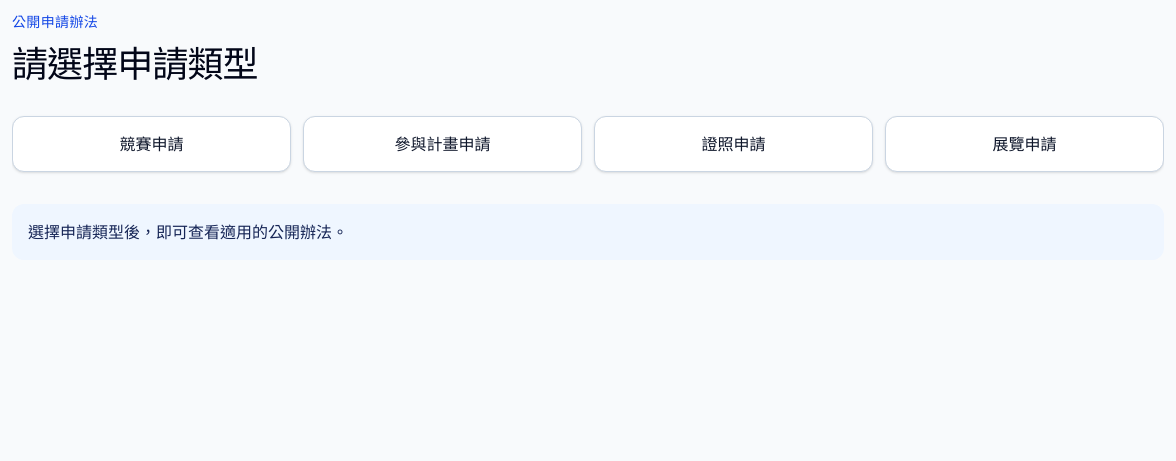
Test: PublishedInstructionsPage › treats an HTTP 200 empty array as an empty state
Click the button "證照申請": (734, 144) [594,116,873,172]
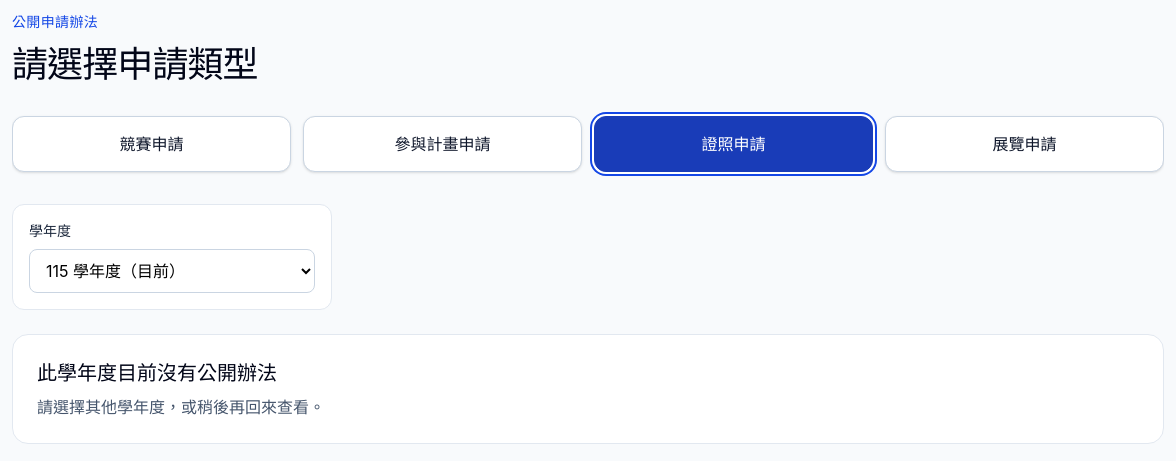
Expected: the heading "此學年度目前沒有公開辦法" is shown, [37,361,277,385]
